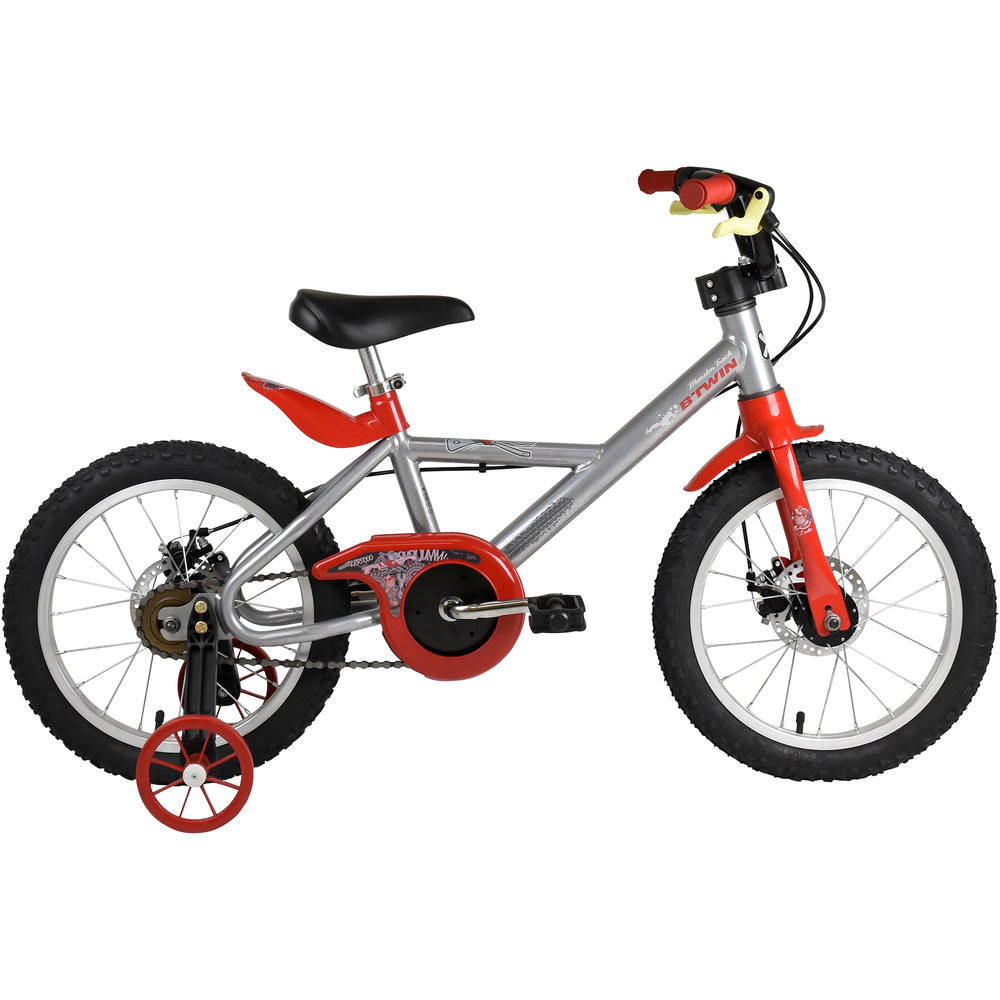RoadBike: (309, 400, 664, 836)
